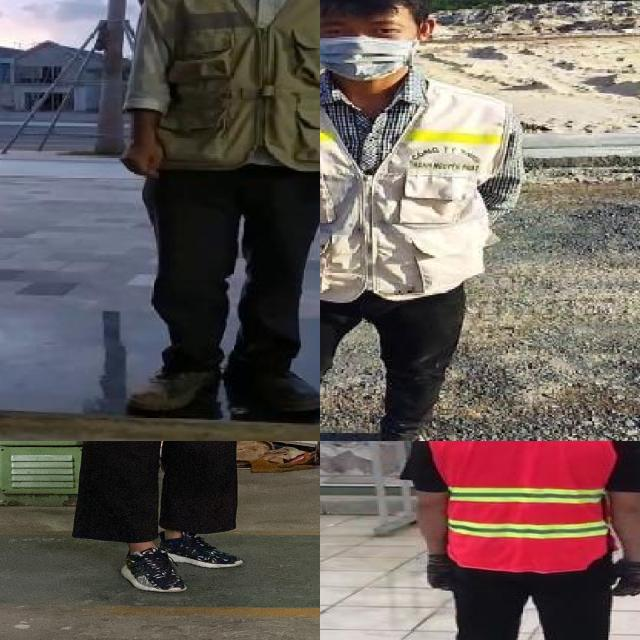face_mask: (320, 18, 419, 81)
hand_glove: (420, 548, 457, 595), (612, 559, 640, 601)
hand_noglove: (112, 126, 169, 182)
head_nohelmet: (49, 441, 298, 613), (320, 0, 432, 19)
person: (320, 0, 532, 441), (112, 0, 320, 416), (392, 441, 640, 640)
shoes: (125, 360, 221, 412), (226, 360, 320, 413), (111, 546, 196, 596), (153, 532, 248, 570), (367, 422, 458, 441)
vest: (320, 75, 516, 299), (123, 0, 320, 177), (434, 441, 615, 575)
